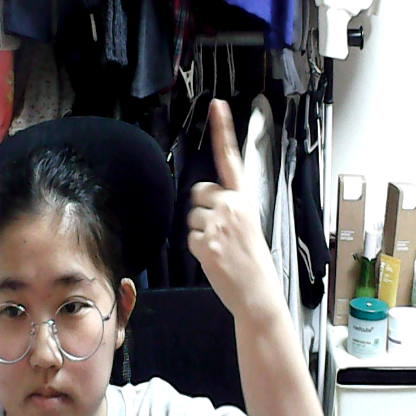Finger_1: (182, 94, 282, 285)
